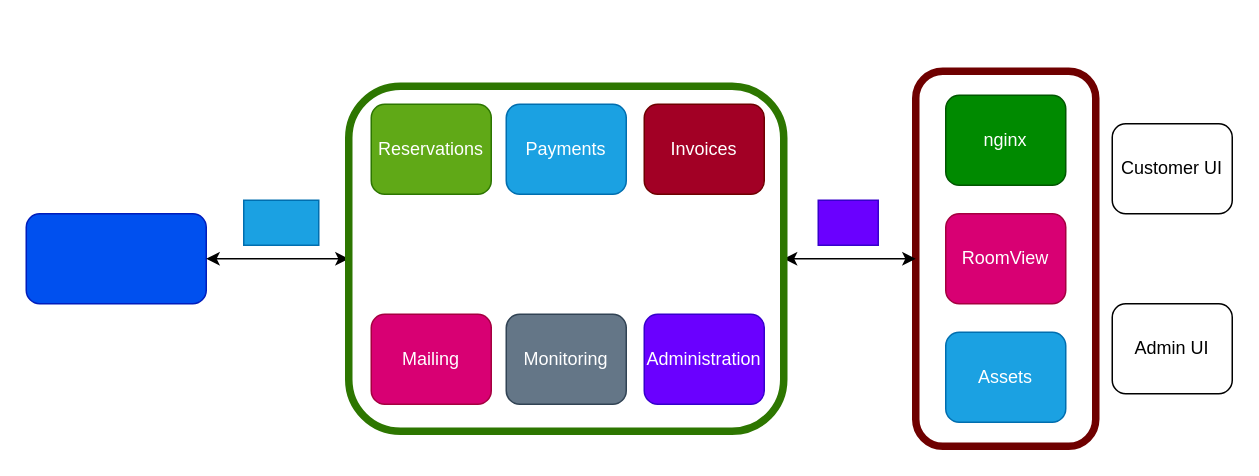
The diagram is 1259 pixels wide and 476 high, and some of its shapes have lost their labels. Here are the shapes that lost their labels. From the top down, the centre of each, then its label:
[280,222]: SQL
[847,222]: API
[115,258]: PostgreSQL
